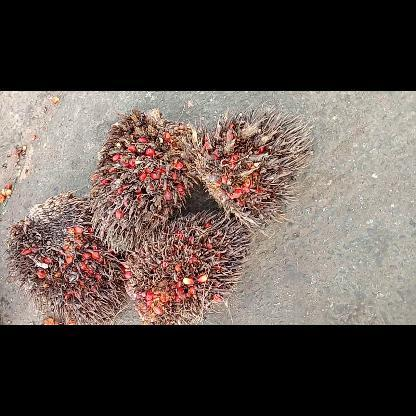Terlalu masak: (81, 105, 209, 257), (0, 188, 129, 325), (194, 105, 320, 239), (121, 206, 256, 324)
